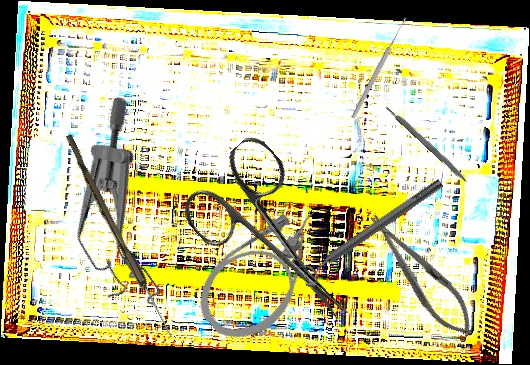Cannula: (183, 191, 351, 356)
Fixation Ring: (294, 172, 449, 290)
Iris Scissors: (171, 130, 387, 353)
Needle Holder: (358, 203, 485, 347)
Scalpel Handle: (384, 103, 470, 184)
Speculum: (22, 93, 224, 326)
Surgical Spoon: (61, 134, 177, 339), (350, 16, 409, 120)
